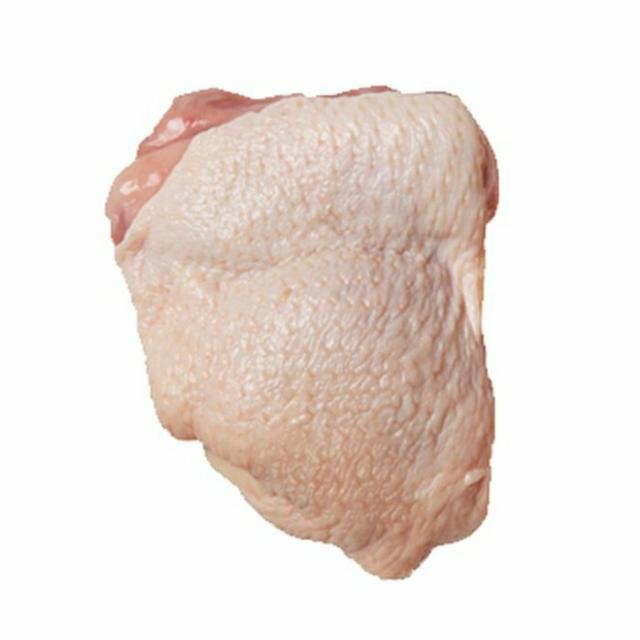chicken: (109, 87, 499, 579)
